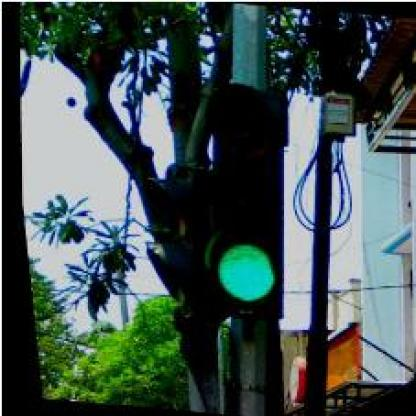green: (178, 80, 301, 322)
